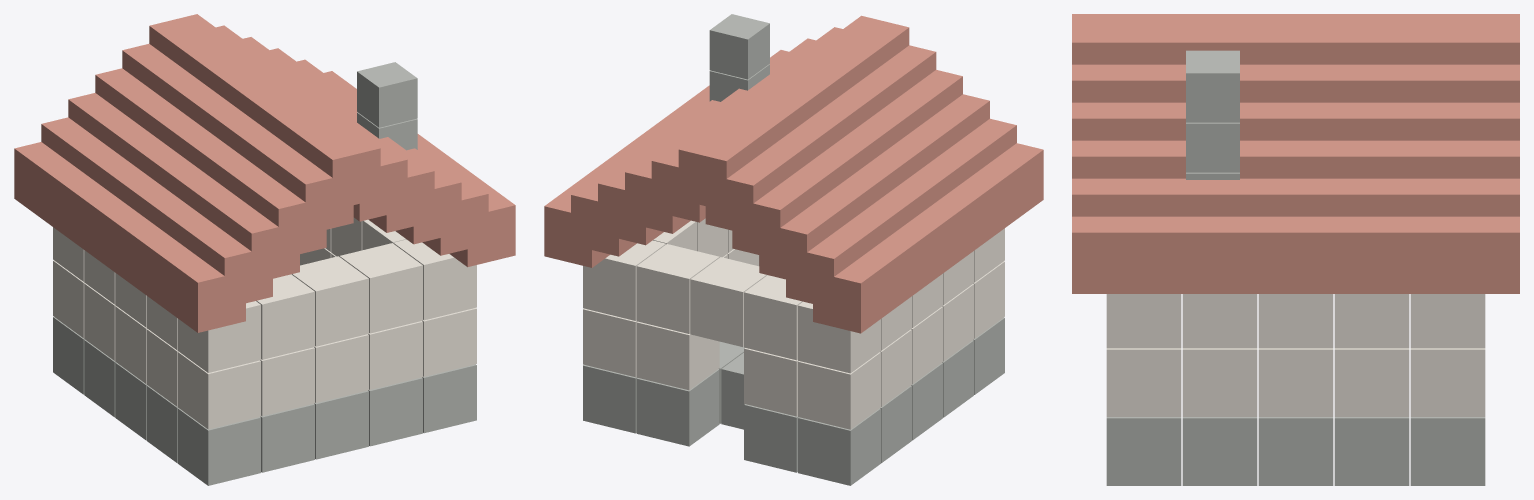
File: ember_prop_cottage_00.glb
3 views of the same model, side by side, from view 1: azimuth 30°, elevation 25°; view 2: azimuth 150°, elevation 25°; view 3: azimuth 270°, elevation 25° (orthographic). The views are drawn at different scales.
Visible parts, largest first — view 1: ember_prop_cottage_00; view 2: ember_prop_cottage_00; view 3: ember_prop_cottage_00.
Part boxes in pixels (<box>): ember_prop_cottage_00: <box>14,14,515,485</box>; ember_prop_cottage_00: <box>544,14,1043,485</box>; ember_prop_cottage_00: <box>1072,14,1519,485</box>.
Size of the model in its own units: 3.24 by 3.17 by 3.24.
